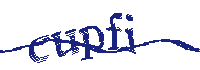c: (28, 32, 52, 63)
f: (104, 6, 123, 51)
i: (124, 14, 137, 54)
p: (78, 24, 105, 62)
u: (52, 28, 78, 59)
